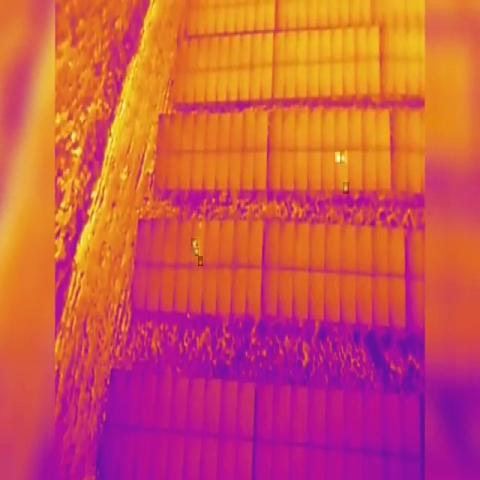fault: (343, 182, 349, 194), (340, 150, 345, 164), (191, 238, 198, 246), (335, 152, 340, 162), (198, 256, 203, 266), (195, 248, 199, 256)
